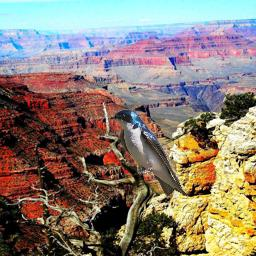Swallow: (109, 109, 189, 198)
